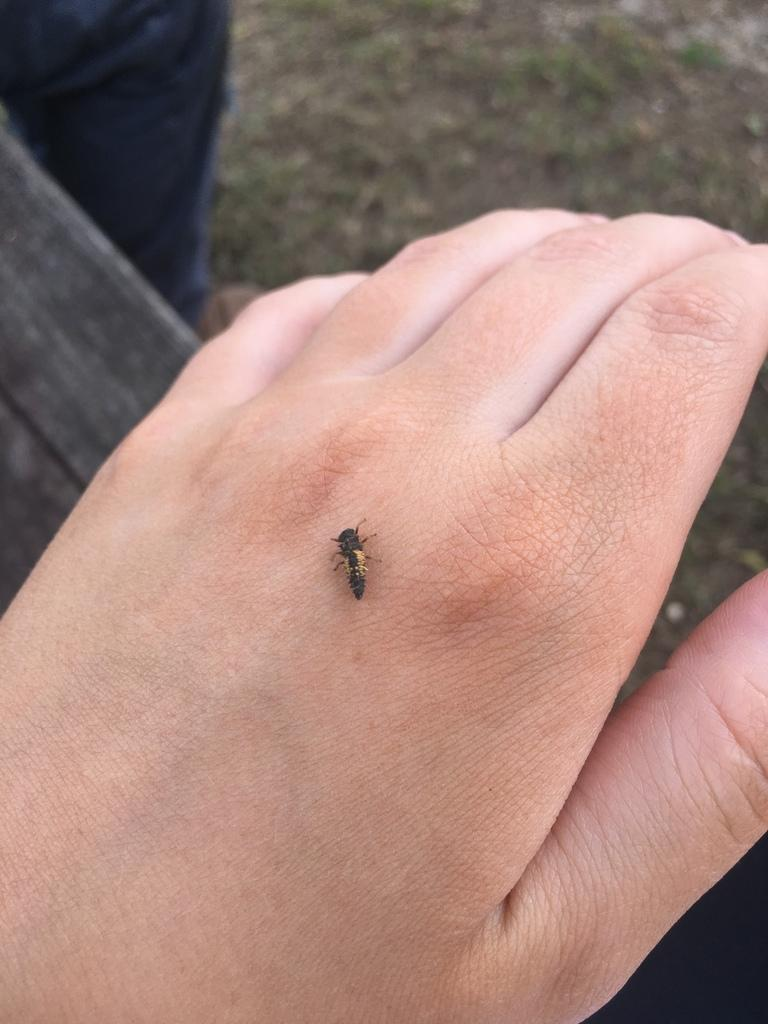ladybug: (328, 517, 386, 604)
